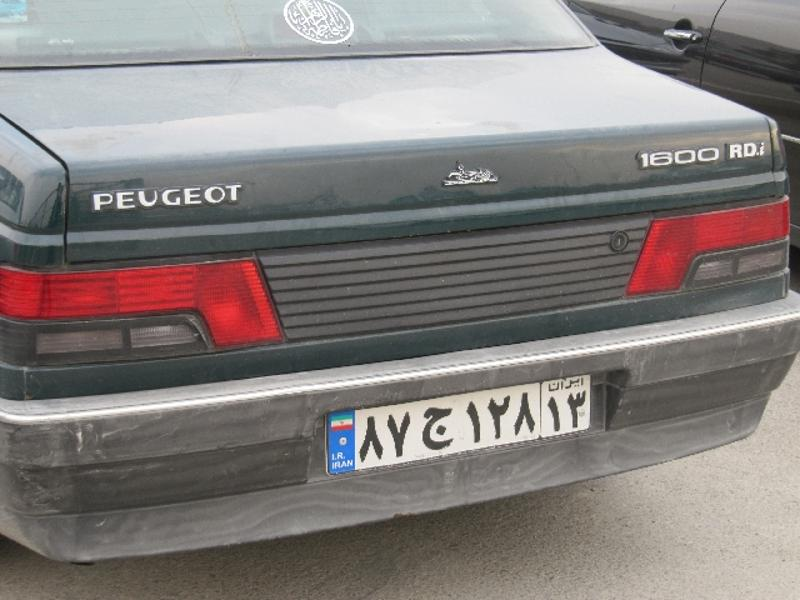Plate: (317, 377, 604, 476)
